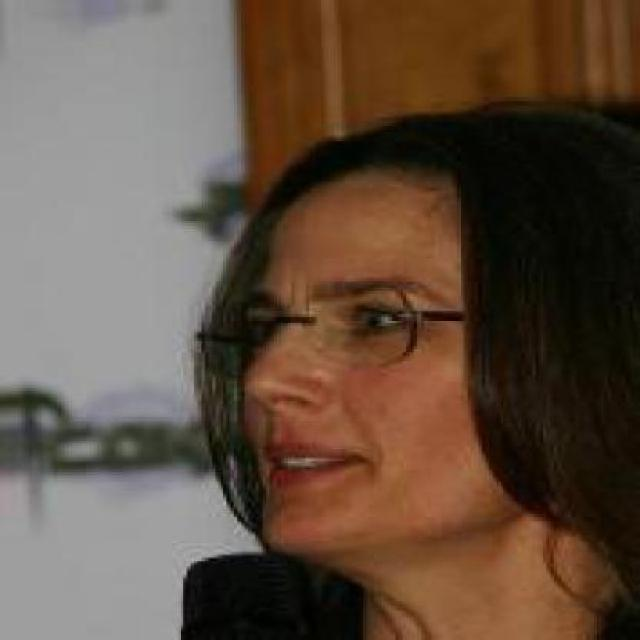closed-mouth: (258, 442, 360, 486)
